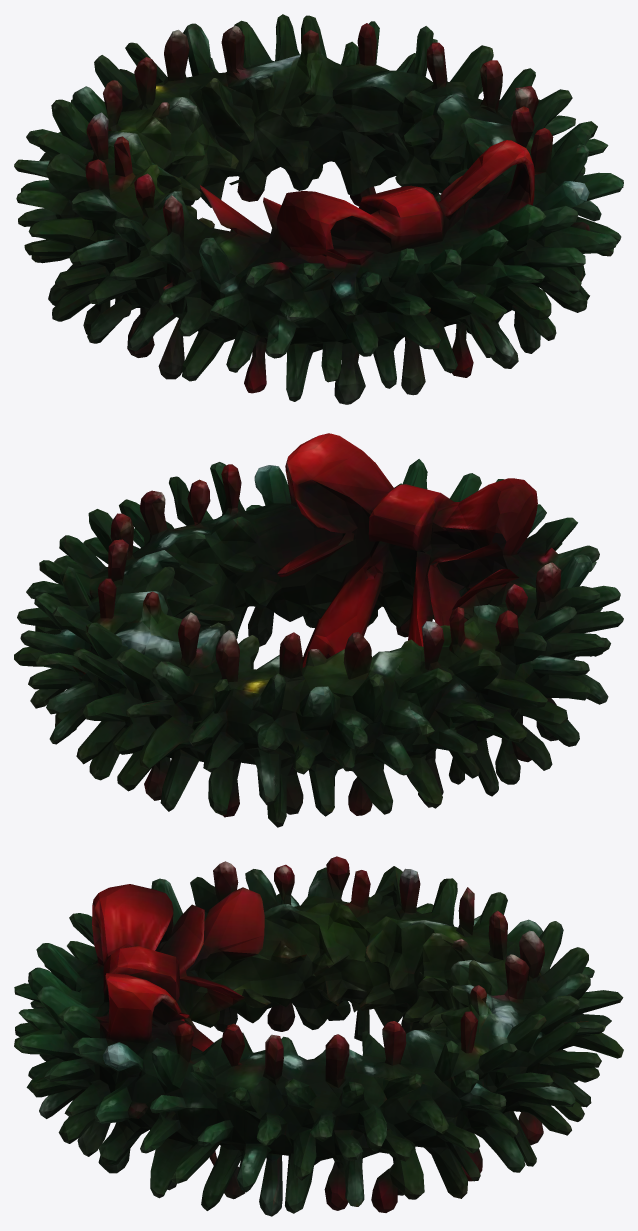
The model's file is winter-wreath.glb.
The picture shows the model from 3 angles, top to bottom: view 1: azimuth 30°, elevation 25°; view 2: azimuth 150°, elevation 25°; view 3: azimuth 270°, elevation 25°; orthographic projection. The views are drawn at different scales.
Parts seen in each view (by area): view 1: world; view 2: world; view 3: world.
Boxes of the visible parts, x1,y1,x2,y2 form: world: [14, 14, 623, 404]; world: [14, 433, 623, 827]; world: [14, 856, 623, 1216].
Size of the model in its own units: 0.9395 by 0.3781 by 0.9983.
Materials: 1 (1 with a texture image).
